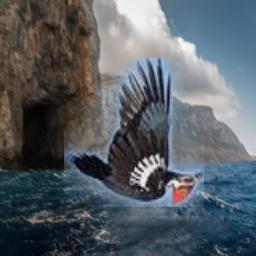Woodpecker: (64, 57, 204, 207)
